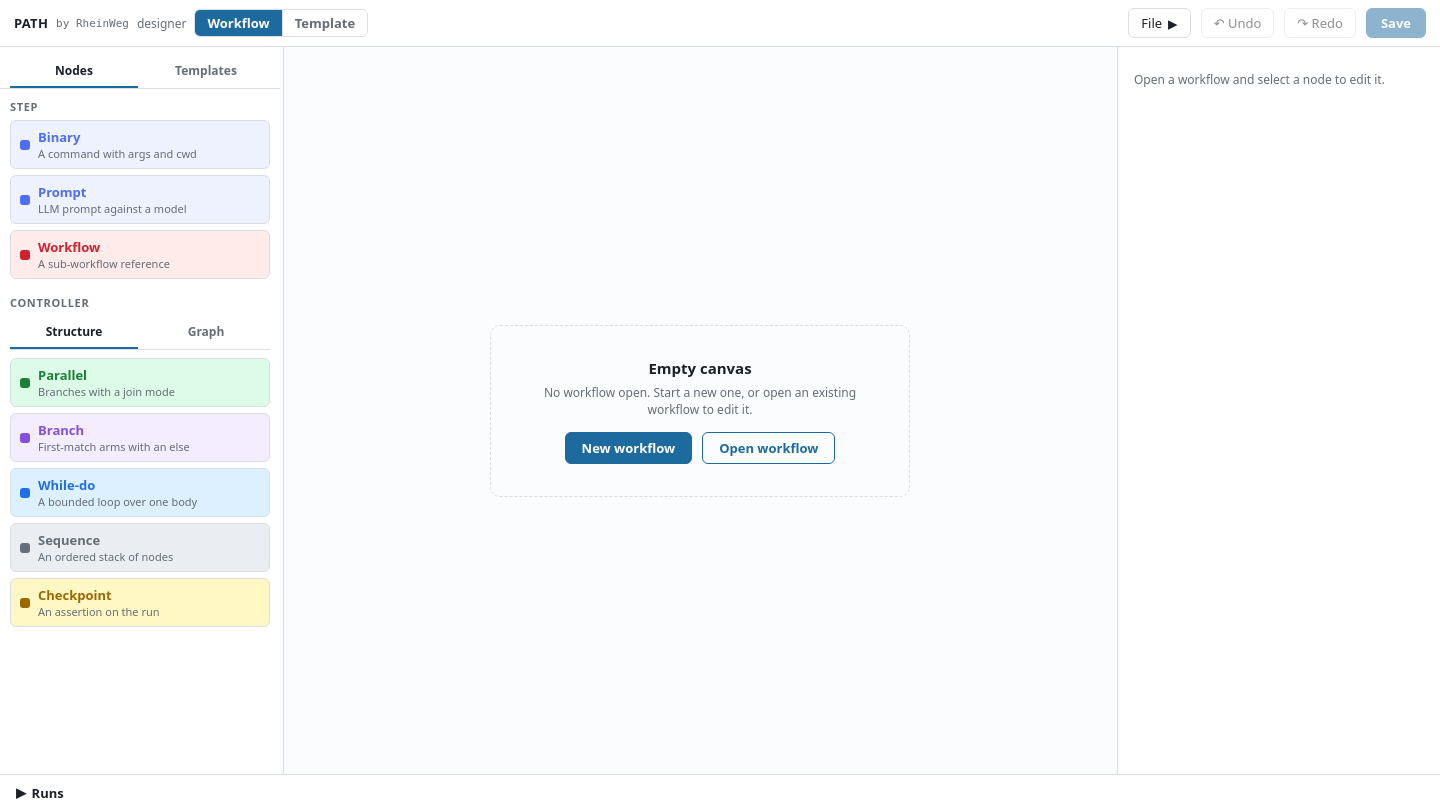
Scenario: first-save placement dialog › refuses an existing path — choose another name — never a silent overwrite
Step 1. Click the button "New workflow" → click(628, 448), box top-left (565, 432), bottom-right (692, 464)
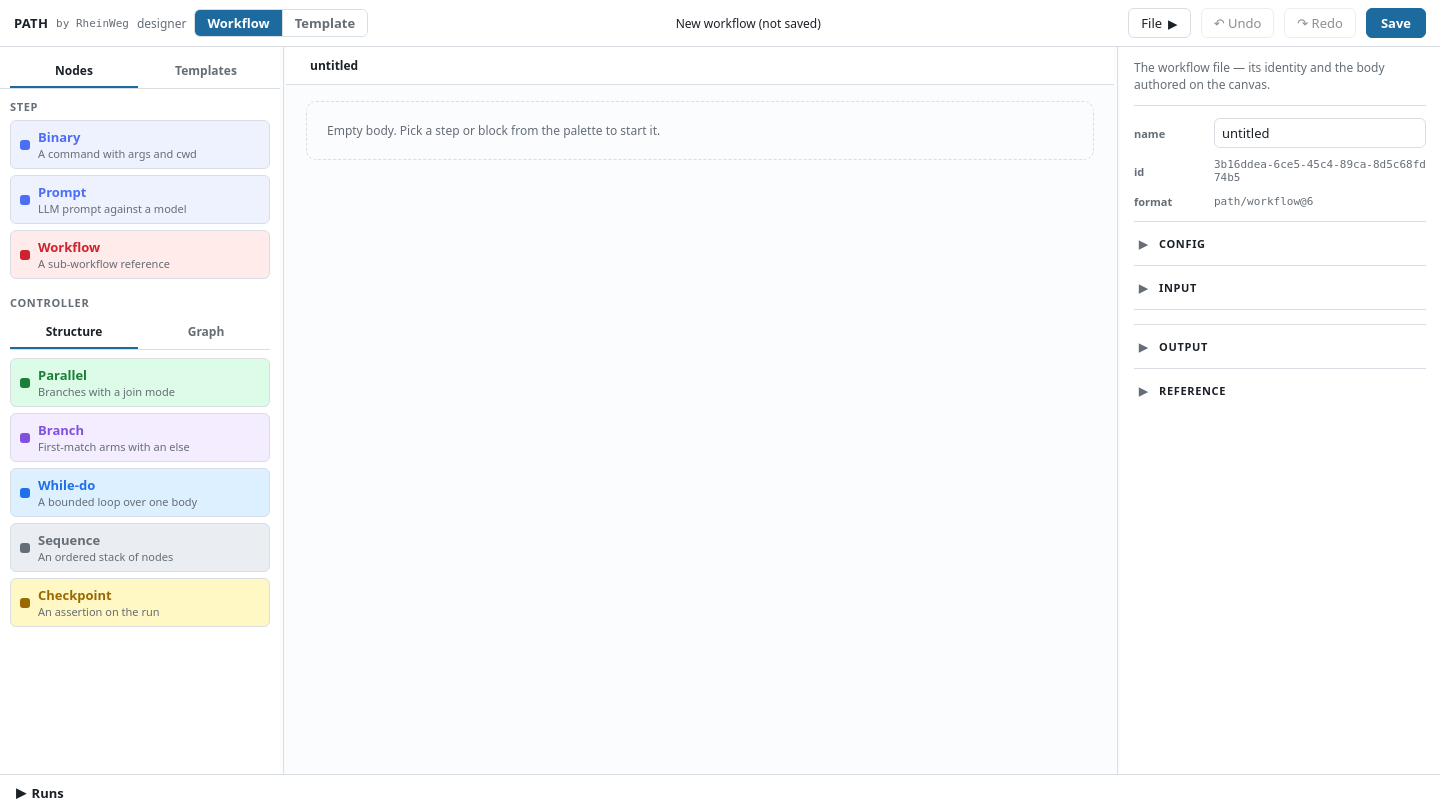
Step 2. Click the text "Prompt" → click(62, 192), box top-left (38, 183), bottom-right (86, 201)
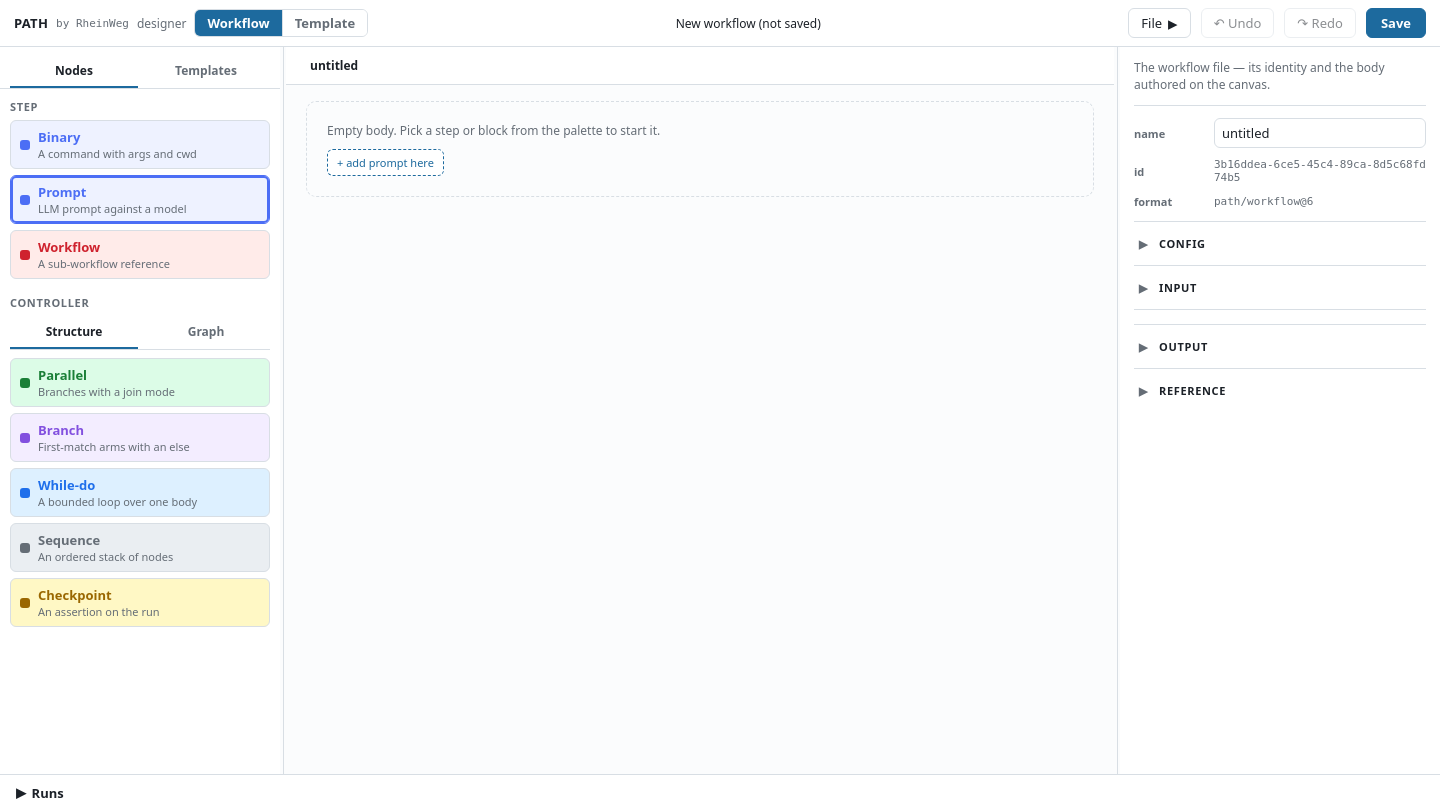
Step 3. Click the button "+ add prompt here" → click(385, 162), box top-left (327, 149), bottom-right (444, 176)
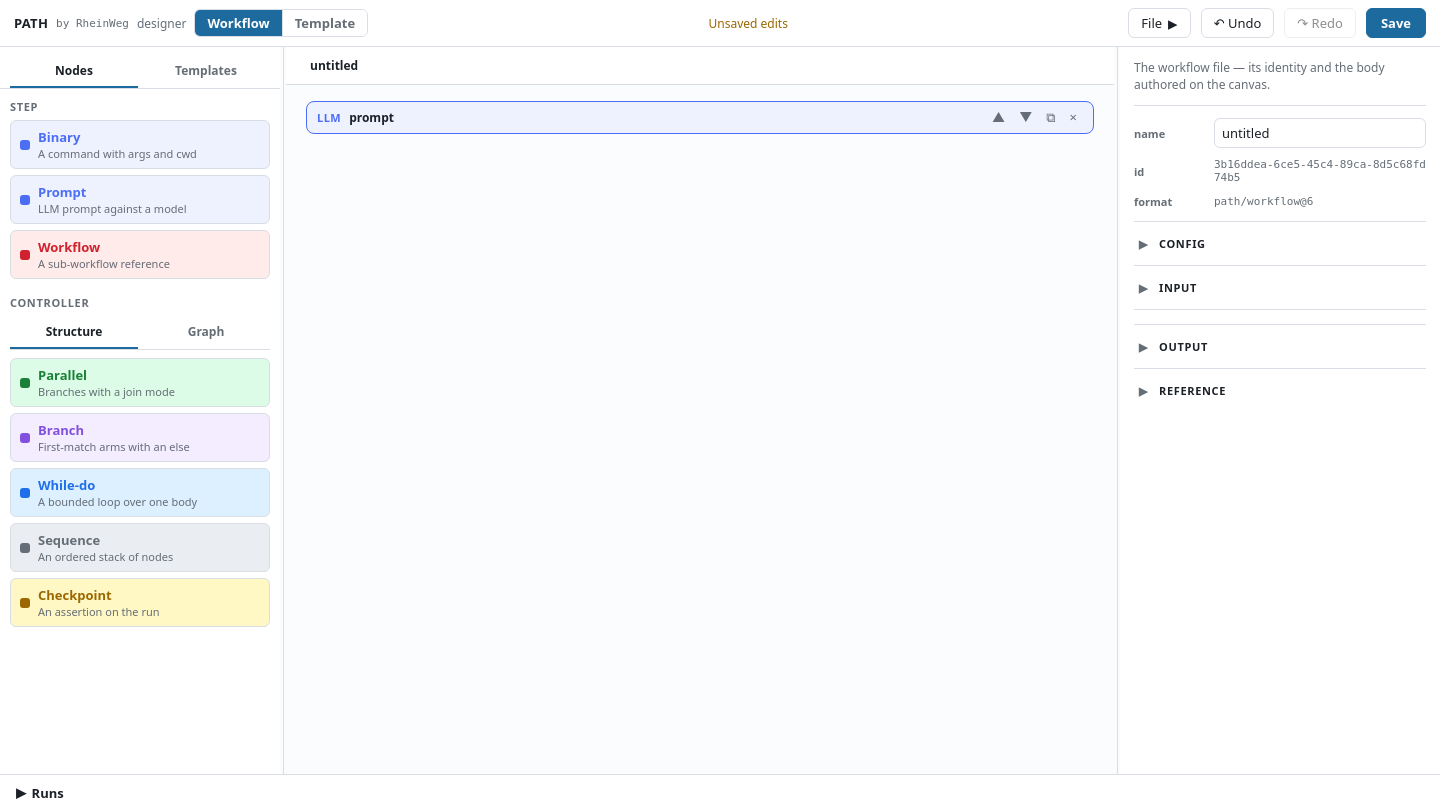
Step 4. Click the button "Save" → click(1396, 23), box top-left (1366, 8), bottom-right (1426, 38)
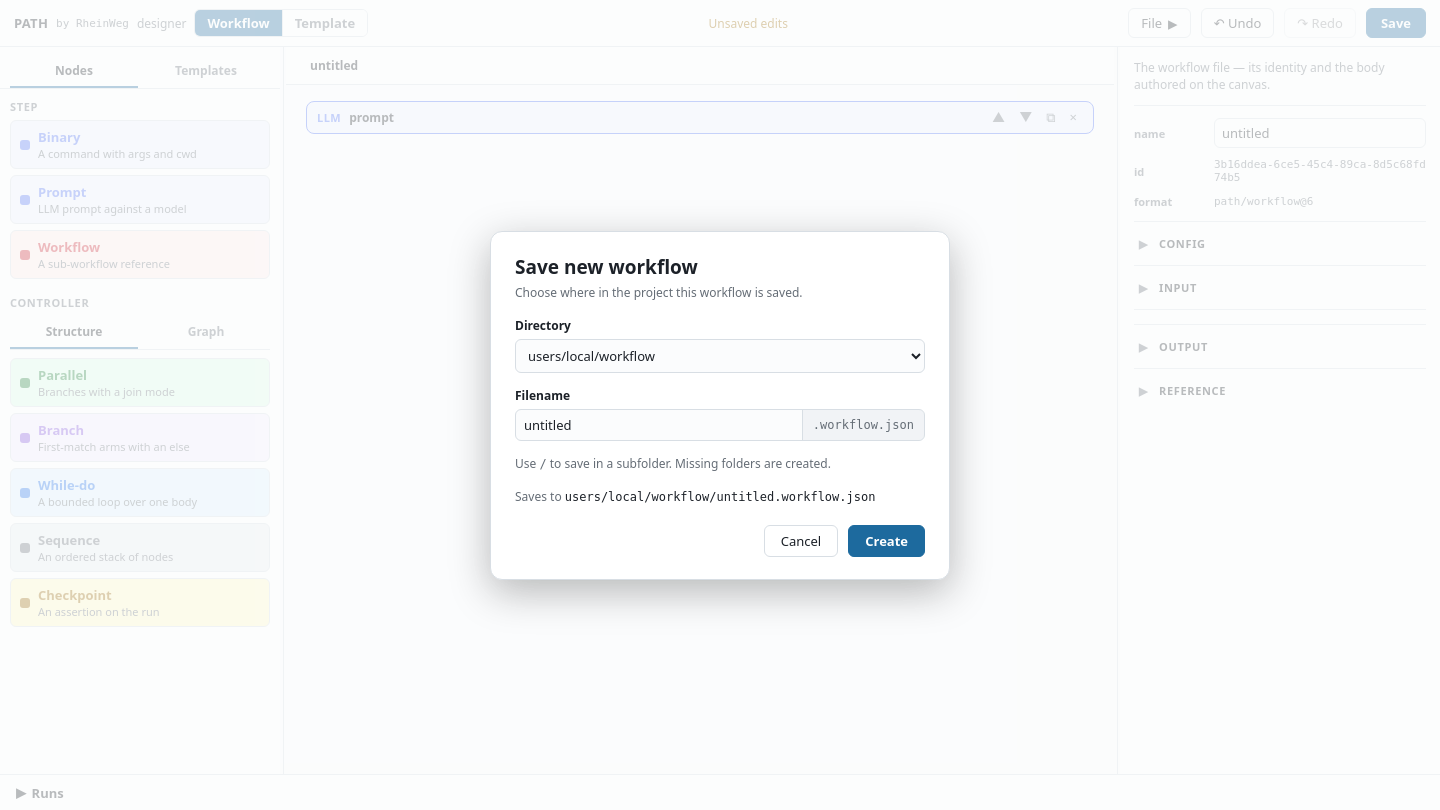
Step 5. Click the button "Create" → click(887, 540), box top-left (848, 524), bottom-right (925, 556)
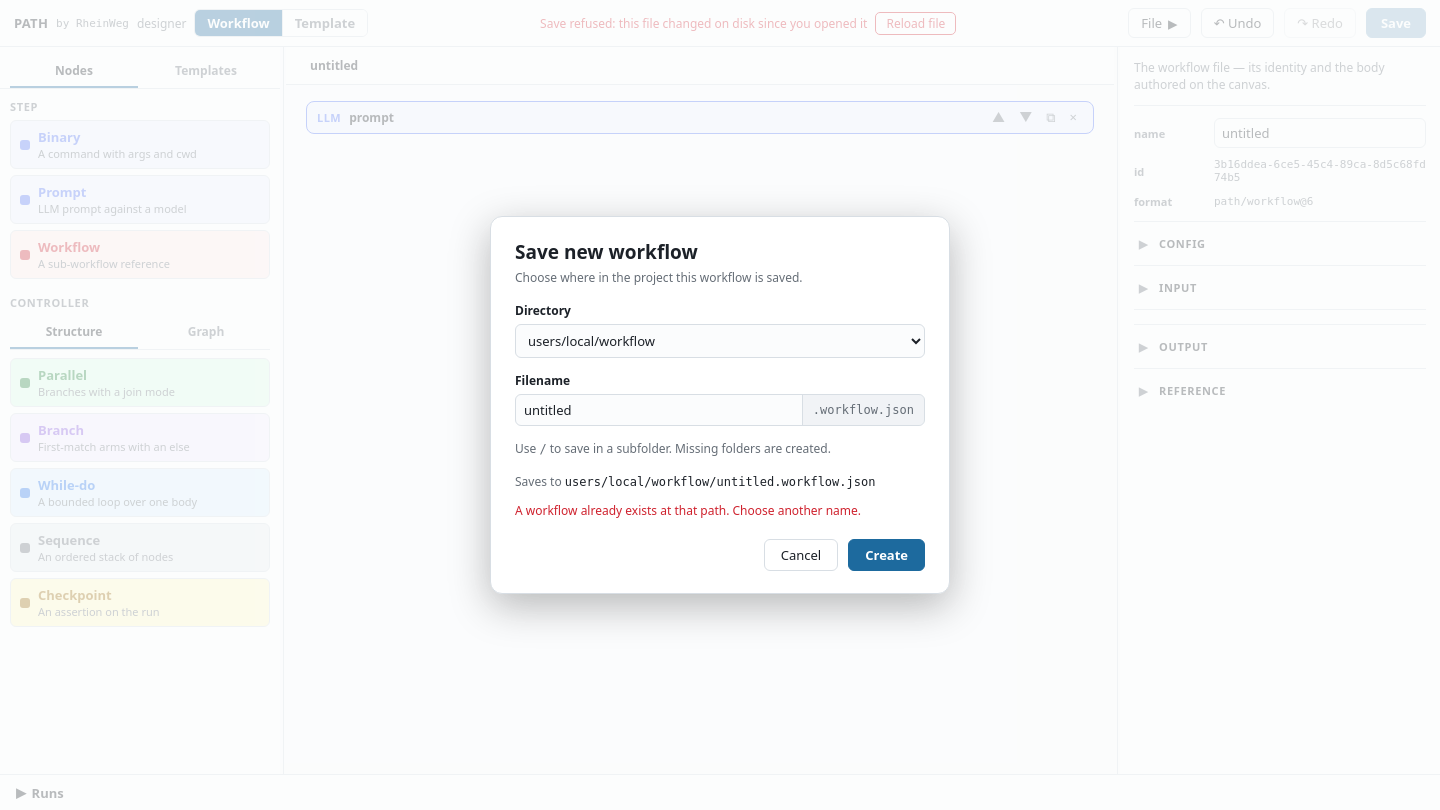
Now the dialog "Save new workflow" is shown
Now the text "A workflow already exists at that path. Choose another name." is shown, box top-left (515, 502), bottom-right (861, 519)
